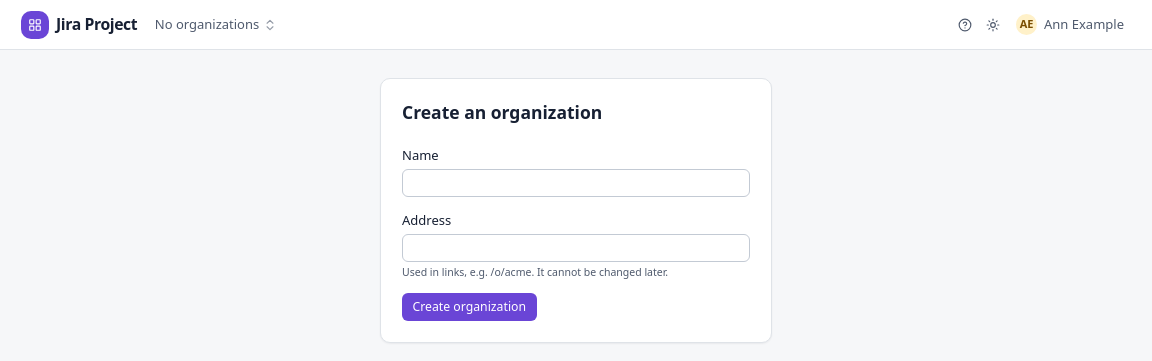
CreateOrgPage › shows a taken address on the field
The width and height of the screenshot is (1152, 361).
Type "Acme" into the field labelled "Name" at coordinates (576, 182), box [402,168,750,196]
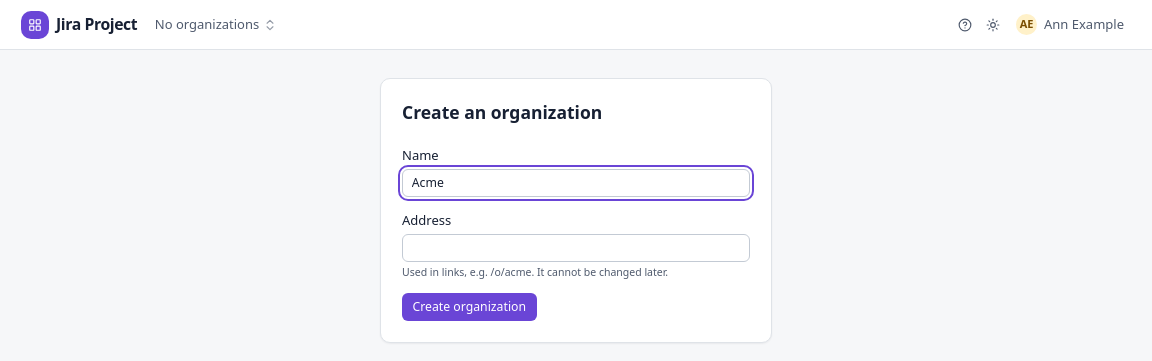
Type "acme" into the field labelled "Address" at coordinates (576, 248), box [402,234,750,262]
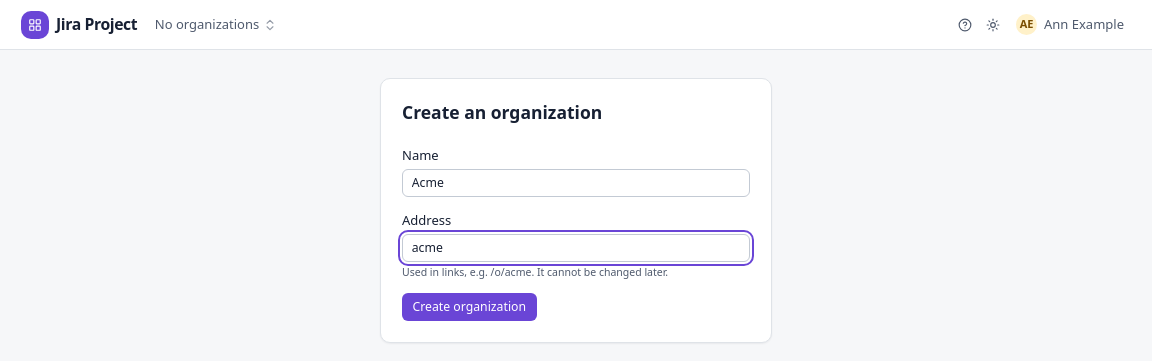
Click the button "Create organization" at coordinates (469, 307), box [402,293,536,321]
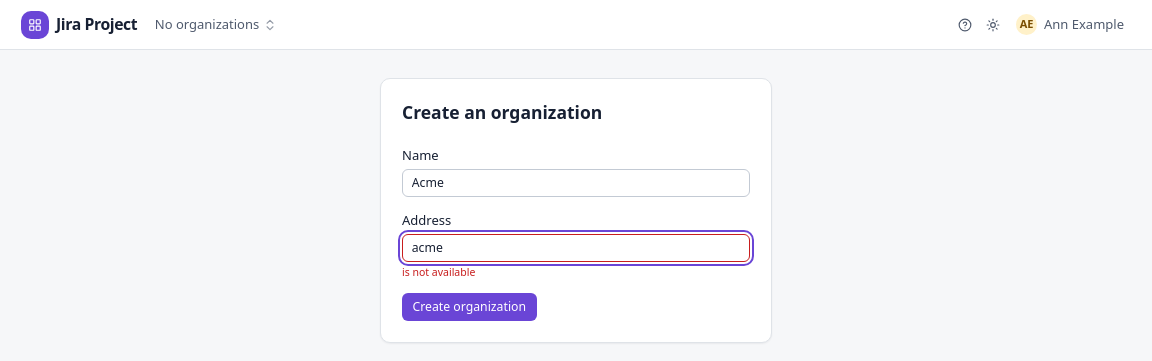
Check: the text "is not available" is shown, box [402,265,475,279]
